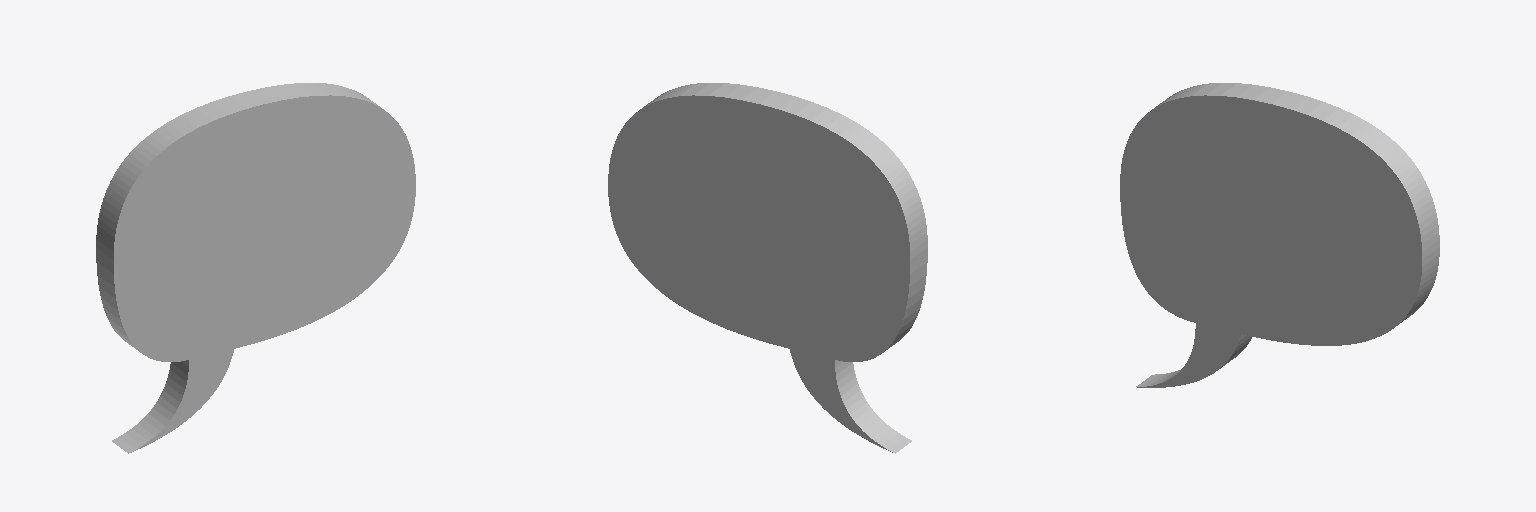
File: Thinking.obj
3 renders of one model, left to right at view 1: azimuth 30°, elevation 25°; view 2: azimuth 150°, elevation 25°; view 3: azimuth 330°, elevation 25°, orthographic.
Visible parts, largest first — view 1: obj_0; view 2: obj_0; view 3: obj_0.
Part boxes in pixels (x1,y1,x2,y2): obj_0: (96,83,415,453); obj_0: (608,83,927,453); obj_0: (1120,83,1439,387).
Size of the model in its own units: 10 by 10 by 1.